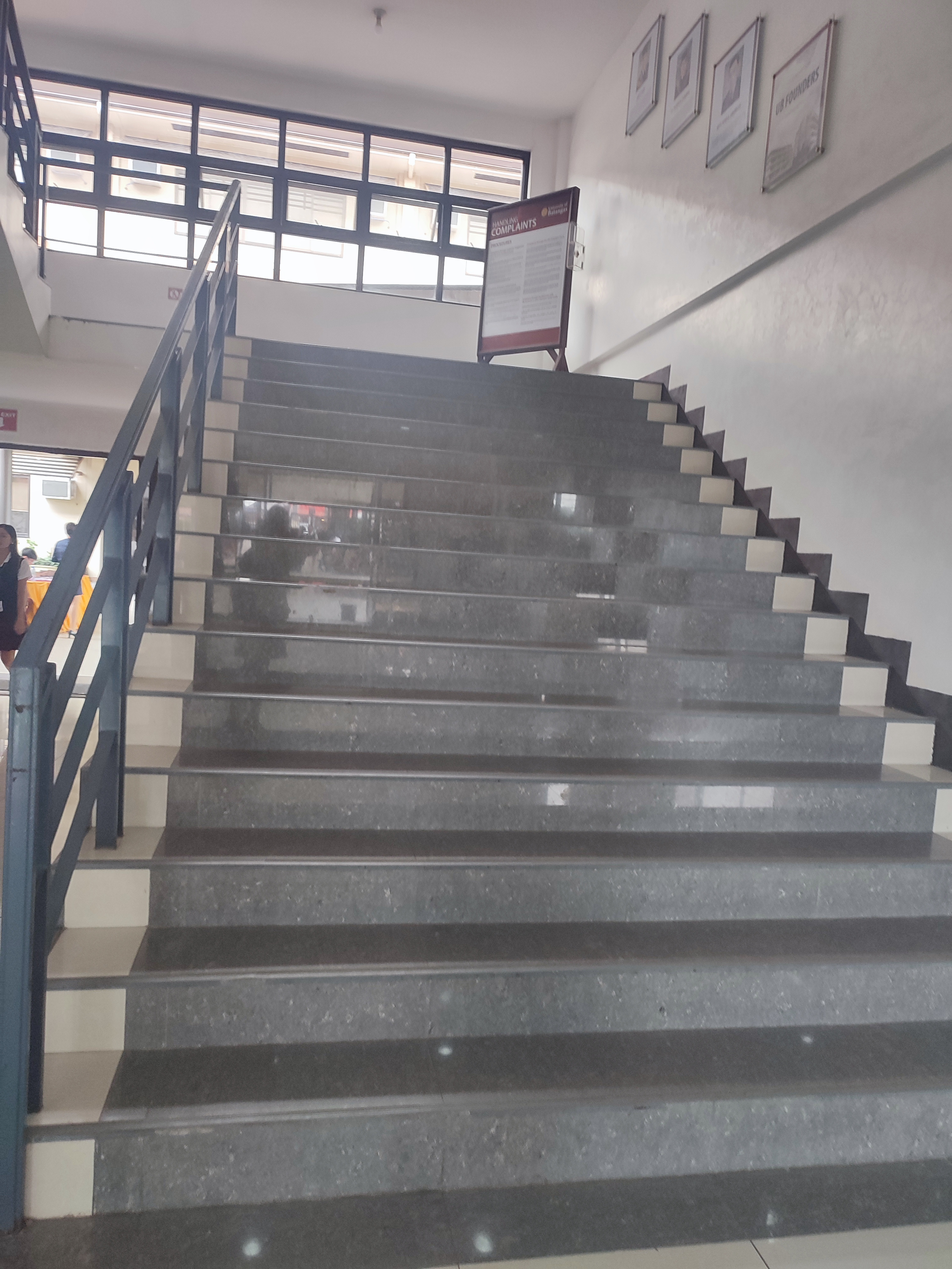Staircase: (0, 339, 952, 1269)
